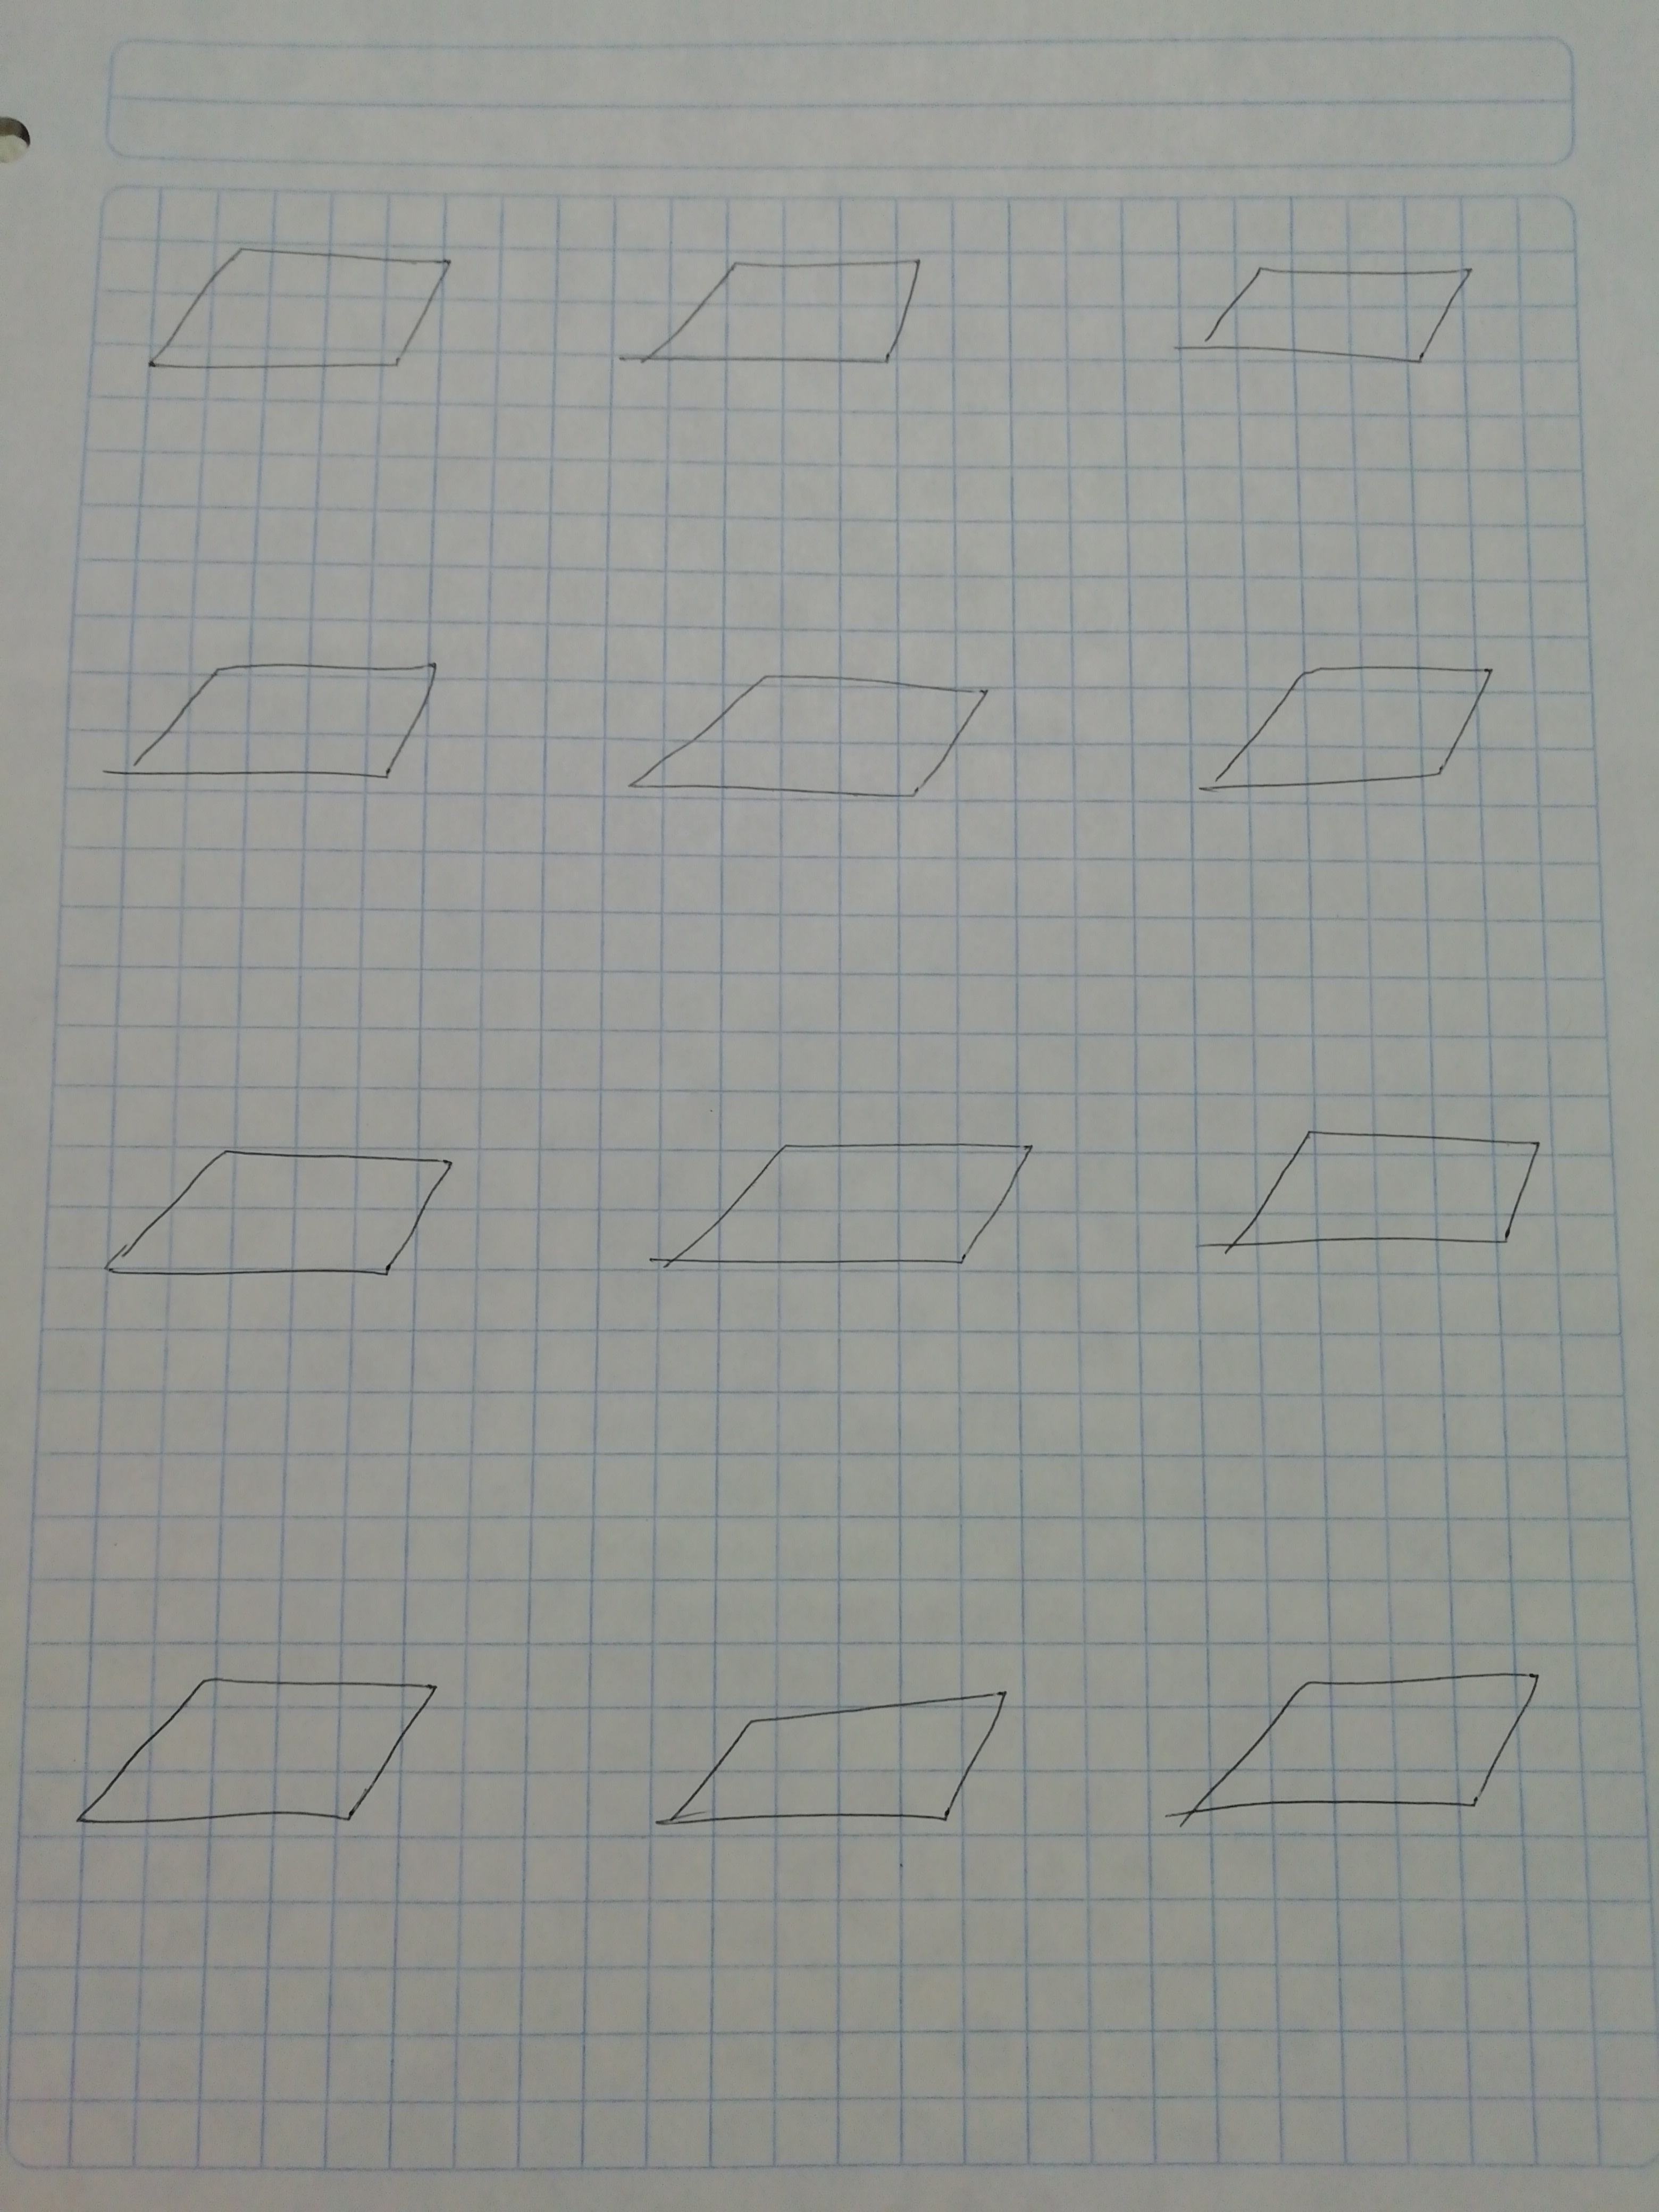scan: (44, 1078, 498, 1350), (619, 1085, 1093, 1339), (23, 1630, 474, 1883), (1126, 1627, 1568, 1879), (591, 620, 1016, 864), (608, 1644, 1047, 1872), (80, 617, 495, 853), (1168, 1096, 1575, 1332), (591, 212, 979, 453), (112, 199, 486, 439), (1171, 627, 1534, 822), (1164, 226, 1511, 415)
